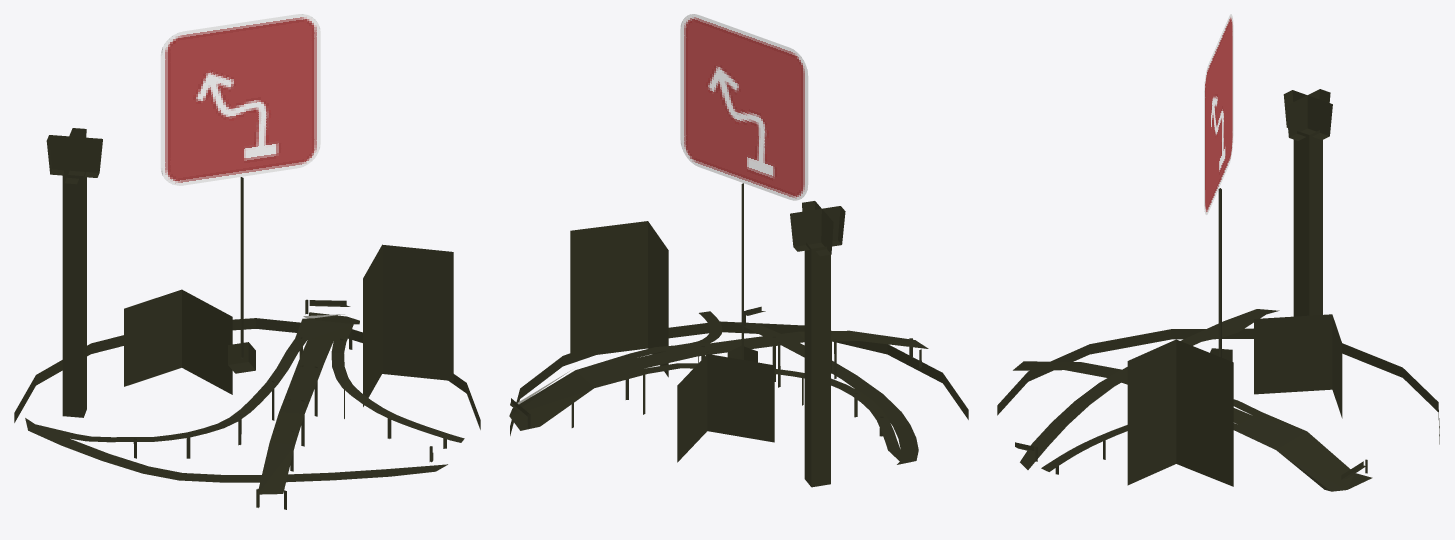
File: ps2_save-icons_colinmcraerally2005.glb
3 renders of one model, left to right at view 1: azimuth 30°, elevation 25°; view 2: azimuth 150°, elevation 25°; view 3: azimuth 270°, elevation 25°, orthographic. The views are drawn at different scales.
Parts seen in each view (by area): view 1: cmr5Icon.icn; view 2: cmr5Icon.icn; view 3: cmr5Icon.icn.
Part boxes in pixels (x1,y1,x2,y2): cmr5Icon.icn: (14, 14, 480, 509); cmr5Icon.icn: (509, 14, 968, 487); cmr5Icon.icn: (997, 14, 1439, 491).
Bounding box in the file's own units: 5 × 4.84 × 5.
1 material, 1 textured.
